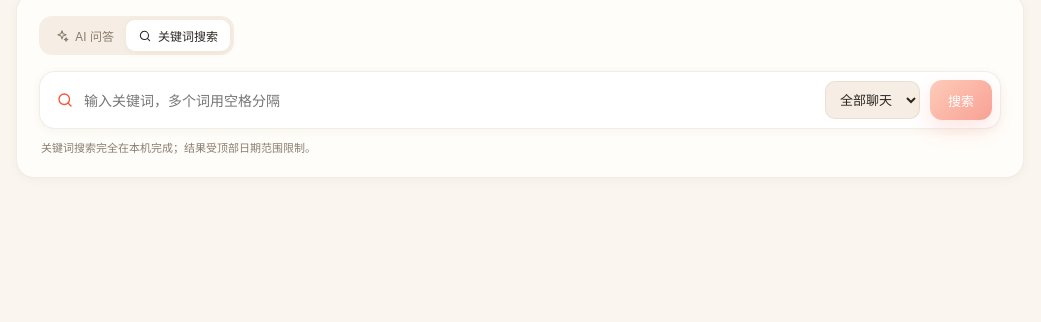
AI ask › points to settings when AI is off
The image size is (1041, 322).
Click the tab "AI 问答" at [84, 36], box top-left (43, 20), bottom-right (126, 51)
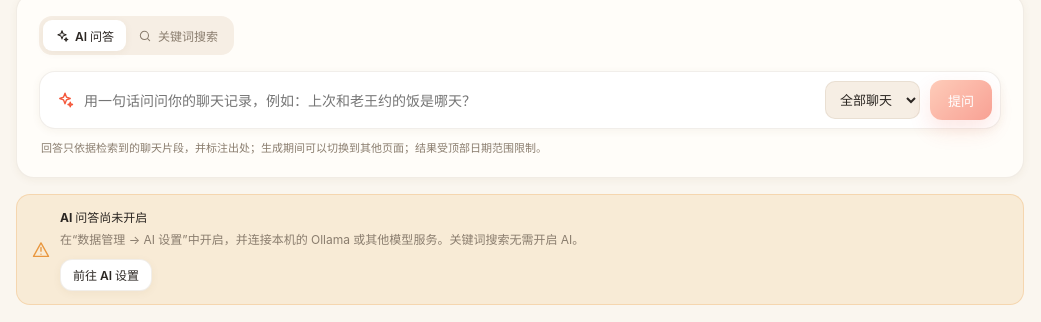
Expected: the button "提问" is disabled, top-left (930, 80), bottom-right (992, 120)
Expected: the text "AI 问答尚未开启" is shown, top-left (60, 210), bottom-right (147, 225)
